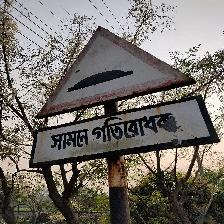Speed-breaker: (33, 26, 215, 166)
